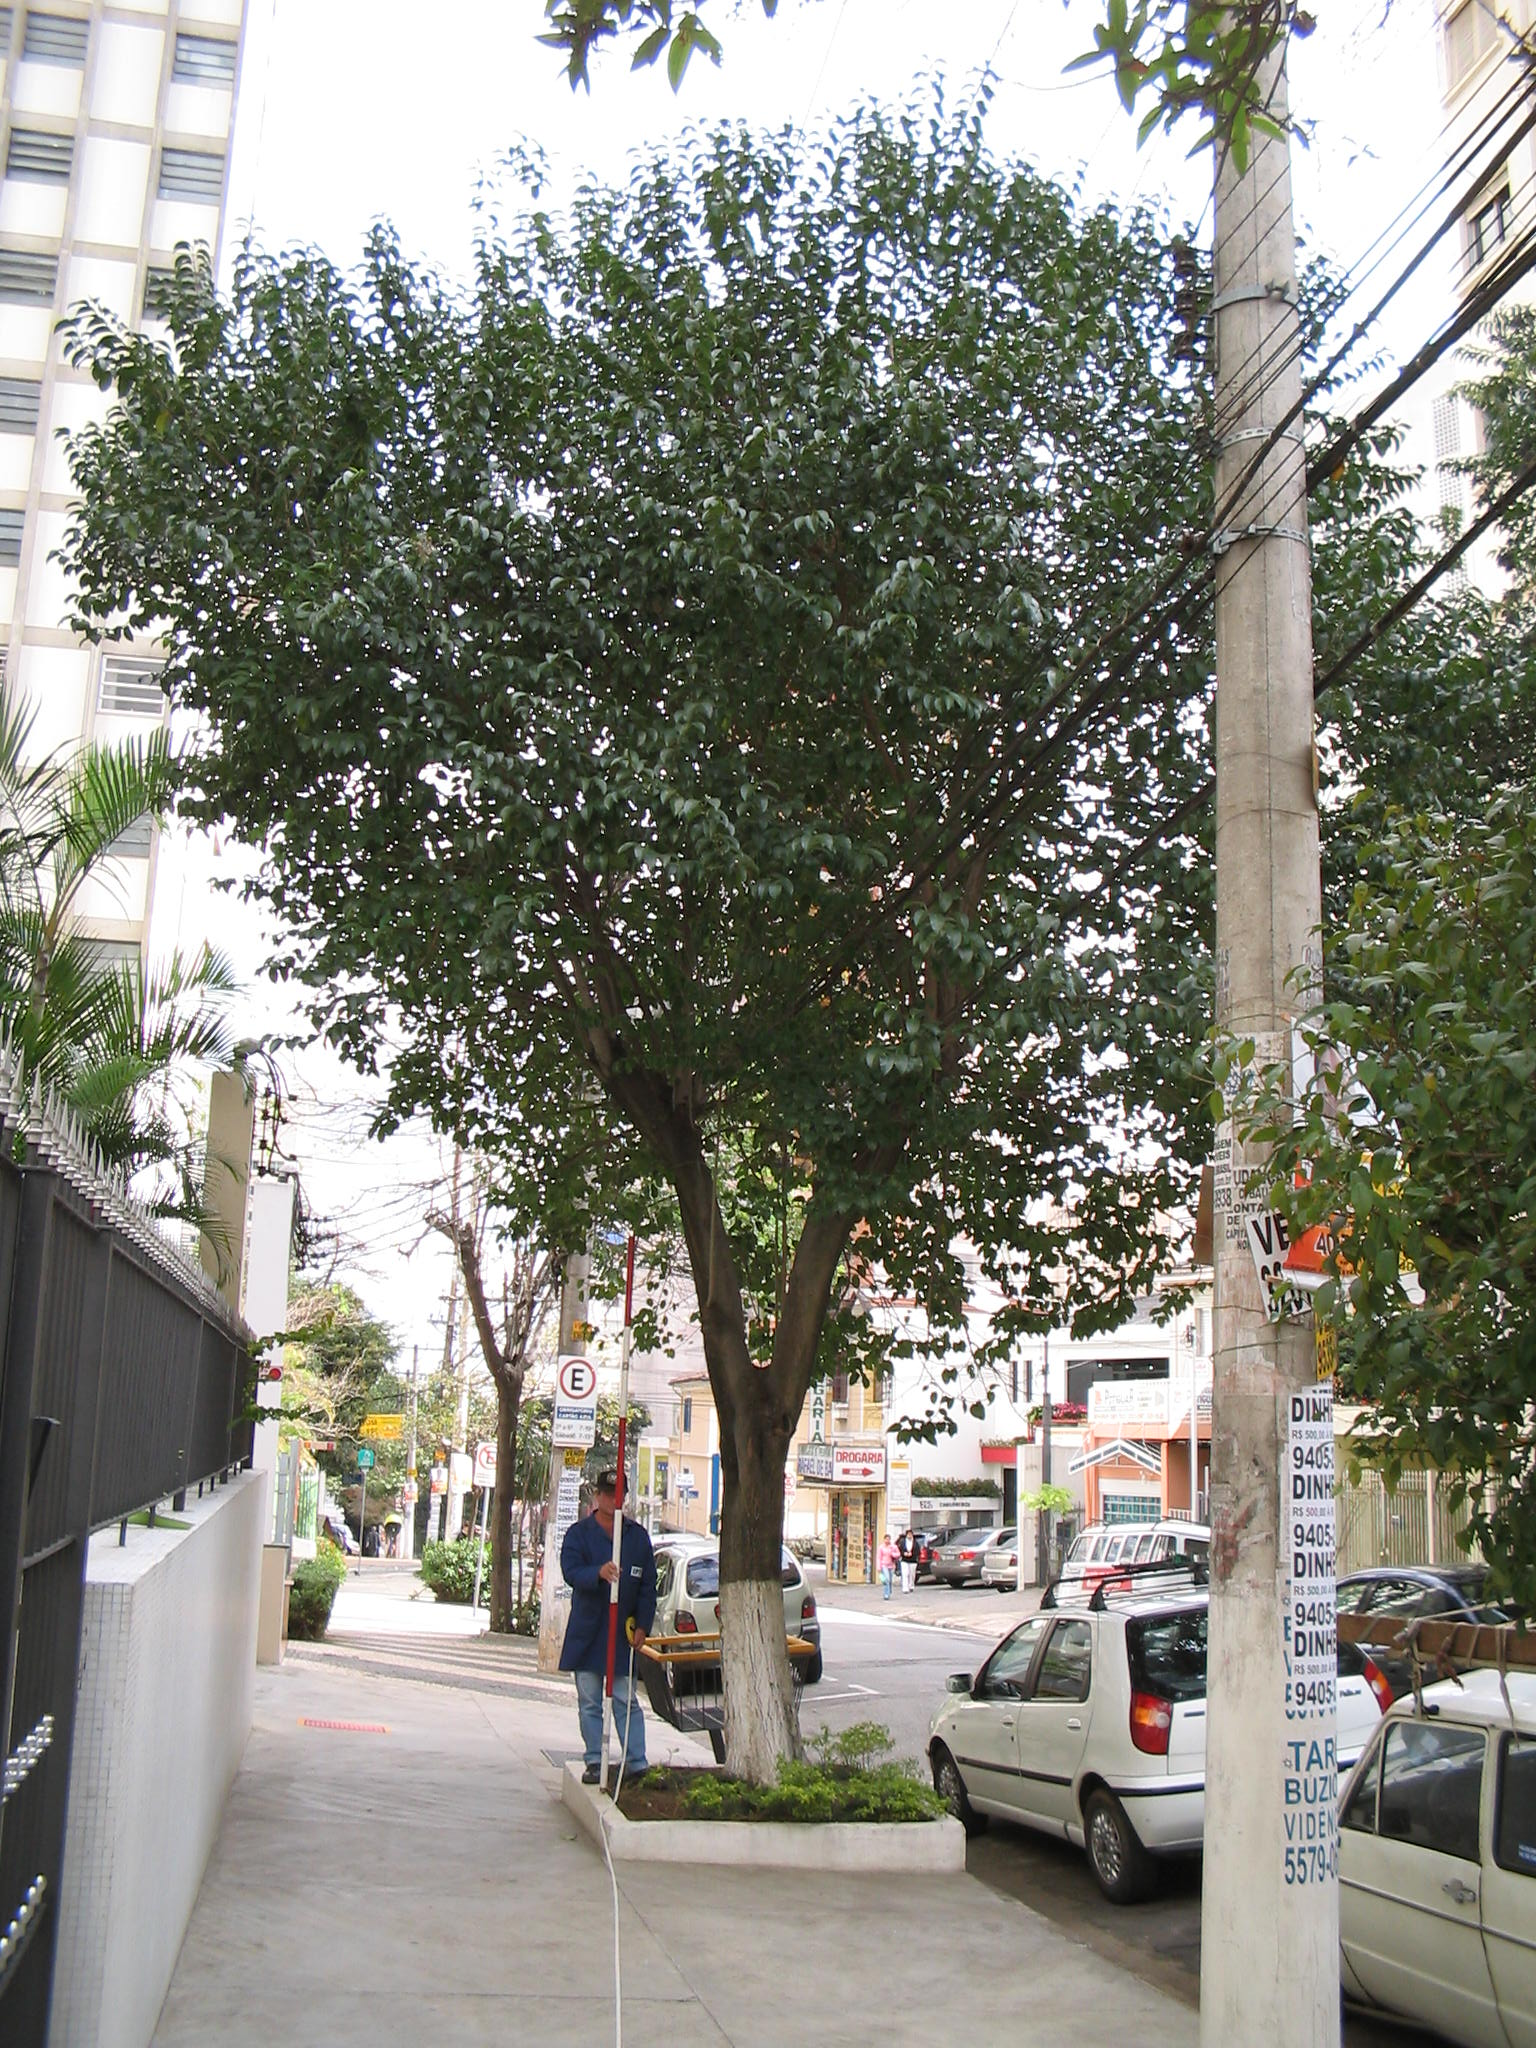crown: (56, 71, 1444, 1316)
stem: (682, 1405, 852, 1784)
stick: (563, 1234, 662, 1808)
tree: (52, 71, 1446, 1790)
